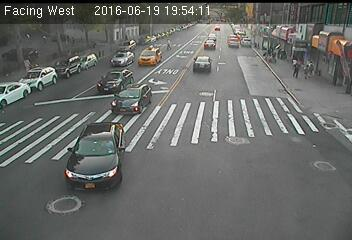neg: (110, 81, 145, 127), (195, 137, 228, 180), (98, 134, 122, 166), (62, 162, 83, 190), (191, 52, 211, 78), (69, 53, 79, 67)
pos: (19, 56, 34, 75), (289, 59, 303, 78), (307, 60, 321, 78), (164, 36, 174, 51)
